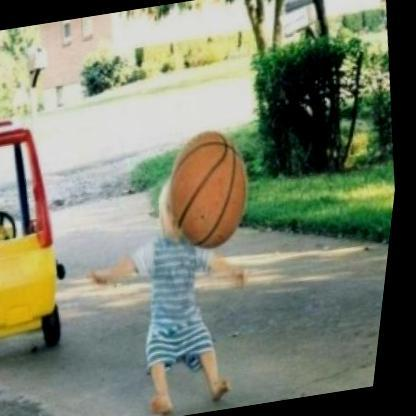basketball: (153, 119, 270, 258)
